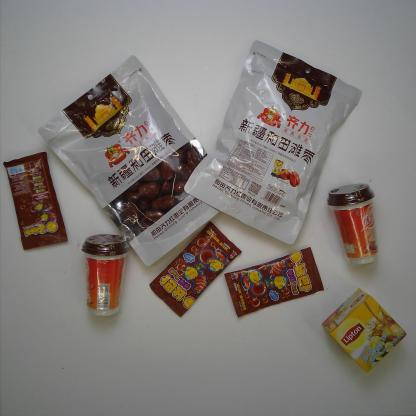Candy: (148, 218, 244, 318), (223, 247, 326, 320), (3, 148, 68, 254)
Dried Food: (35, 51, 221, 269), (181, 38, 364, 244)
Instant Drink: (320, 285, 407, 376), (326, 182, 381, 270), (79, 232, 130, 320)
